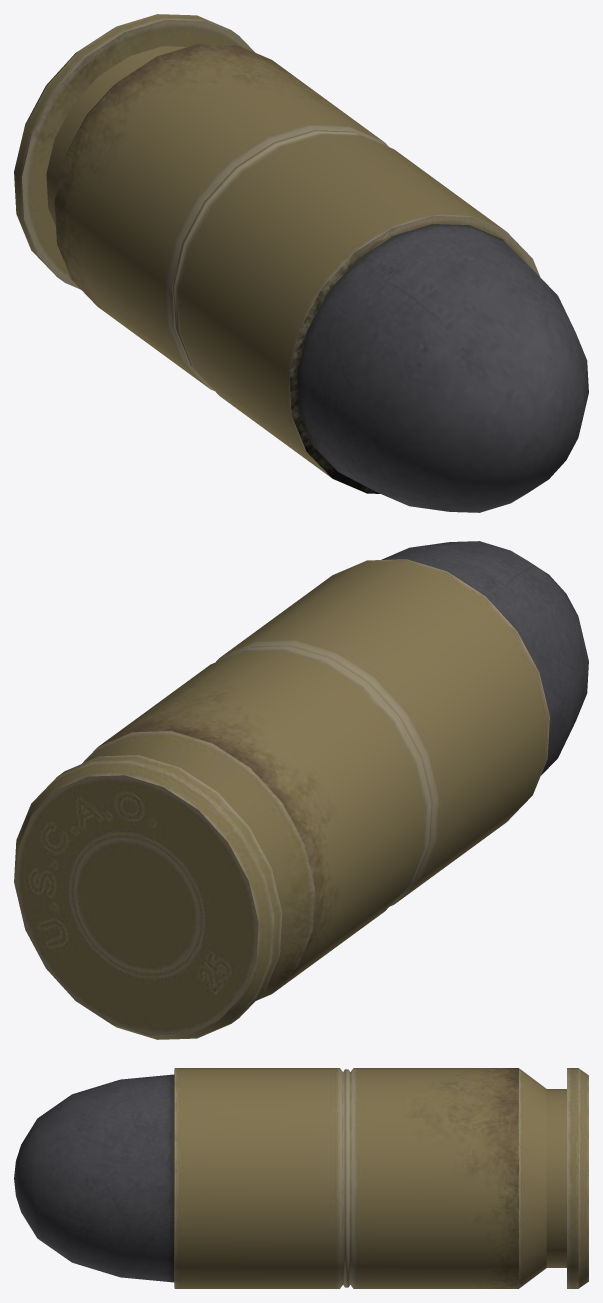
The model's file is m1911_cartridge.glb.
3 views of the same model, one above another, from view 1: azimuth 30°, elevation 25°; view 2: azimuth 150°, elevation 25°; view 3: azimuth 270°, elevation 25° (orthographic). The views are drawn at different scales.
Parts seen in each view (by area): view 1: Cartridge; view 2: Cartridge; view 3: Cartridge.
Part boxes in pixels (box(x1,y1,x2,y2)): Cartridge: box(14, 14, 588, 512); Cartridge: box(14, 541, 588, 1039); Cartridge: box(14, 1068, 588, 1288).
Size of the model in its own units: 0.032 by 0.032 by 0.0834.
Materials: 1 (1 with a texture image).
